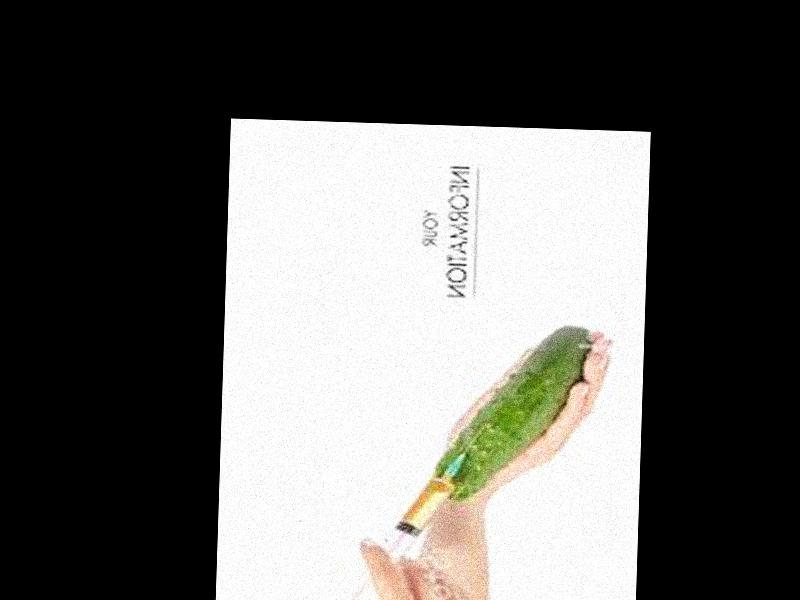Cucumber: (429, 323, 589, 503)
